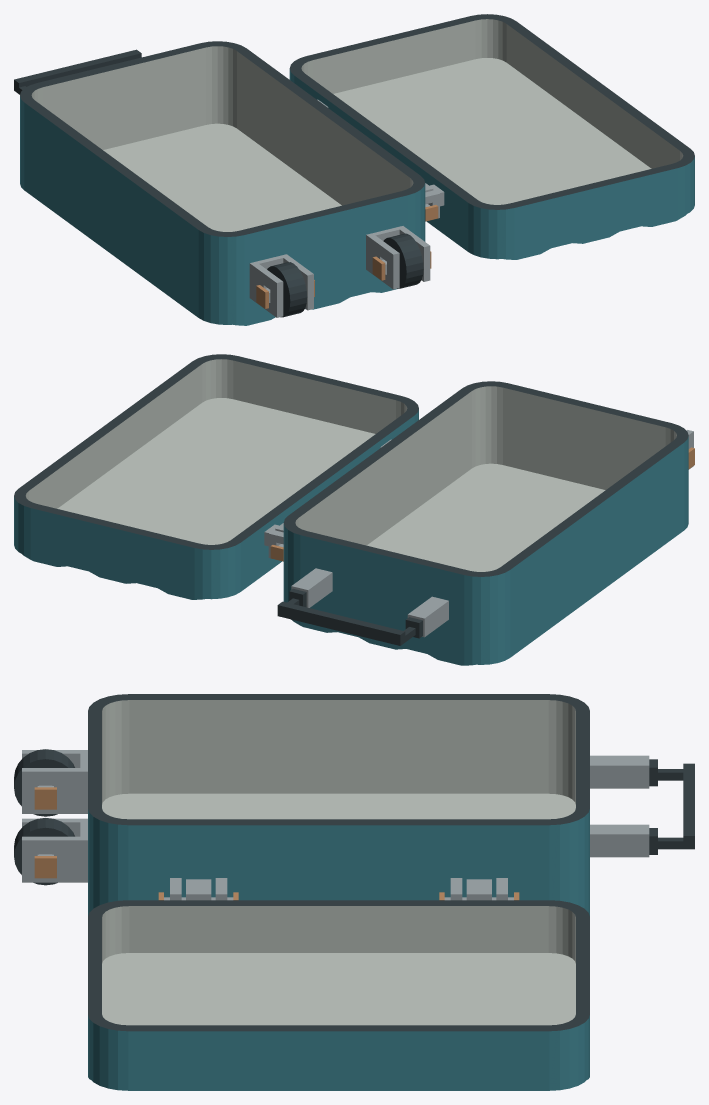
3 renders of one model, top to bottom at view 1: azimuth 30°, elevation 25°; view 2: azimuth 150°, elevation 25°; view 3: azimuth 270°, elevation 25°, orthographic. The views are drawn at different scales.
Parts seen in each view (by area): view 1: DeepMainPan_ContinuousRibbedShell, ShallowLidPan_ContinuousRibbedShell, Wheel_1_ContinuousBoredUFork, Wheel_2_ContinuousBoredUFork, Wheel_2_TrueBoredTyre, OneContinuousStowedUPullHandle, Wheel_1_TrueBoredTyre; view 2: DeepMainPan_ContinuousRibbedShell, ShallowLidPan_ContinuousRibbedShell, OneContinuousStowedUPullHandle, PullGuide_2_TrueThroughSleeve, PullGuide_1_TrueThroughSleeve; view 3: DeepMainPan_ContinuousRibbedShell, ShallowLidPan_ContinuousRibbedShell, Wheel_2_ContinuousBoredUFork, Wheel_1_ContinuousBoredUFork, OneContinuousStowedUPullHandle, PullGuide_1_TrueThroughSleeve, PullGuide_2_TrueThroughSleeve, Wheel_2_TrueBoredTyre, Wheel_1_TrueBoredTyre.
Boxes of the visible parts, x1,y1,x2,y2 form: DeepMainPan_ContinuousRibbedShell: [20, 41, 425, 325]; ShallowLidPan_ContinuousRibbedShell: [289, 14, 694, 259]; Wheel_1_ContinuousBoredUFork: [249, 254, 313, 317]; Wheel_2_ContinuousBoredUFork: [366, 226, 430, 289]; Wheel_2_TrueBoredTyre: [383, 233, 423, 288]; OneContinuousStowedUPullHandle: [14, 49, 141, 94]; Wheel_1_TrueBoredTyre: [267, 262, 307, 317]; DeepMainPan_ContinuousRibbedShell: [283, 381, 688, 665]; ShallowLidPan_ContinuousRibbedShell: [14, 354, 418, 599]; OneContinuousStowedUPullHandle: [277, 588, 422, 645]; PullGuide_2_TrueThroughSleeve: [291, 568, 332, 607]; PullGuide_1_TrueThroughSleeve: [407, 596, 448, 637]; DeepMainPan_ContinuousRibbedShell: [88, 694, 589, 915]; ShallowLidPan_ContinuousRibbedShell: [88, 900, 589, 1090]; Wheel_2_ContinuousBoredUFork: [22, 818, 87, 882]; Wheel_1_ContinuousBoredUFork: [22, 750, 87, 813]; OneContinuousStowedUPullHandle: [649, 759, 694, 854]; PullGuide_1_TrueThroughSleeve: [590, 755, 649, 788]; PullGuide_2_TrueThroughSleeve: [590, 824, 649, 857]; Wheel_2_TrueBoredTyre: [14, 818, 74, 885]; Wheel_1_TrueBoredTyre: [14, 749, 74, 816].
Bounding box in the file's own units: 0.93 × 0.165 × 0.922.
